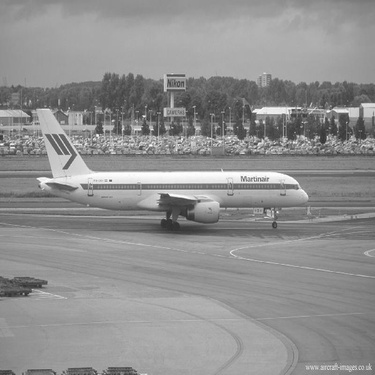airplane: (26, 100, 316, 237)
